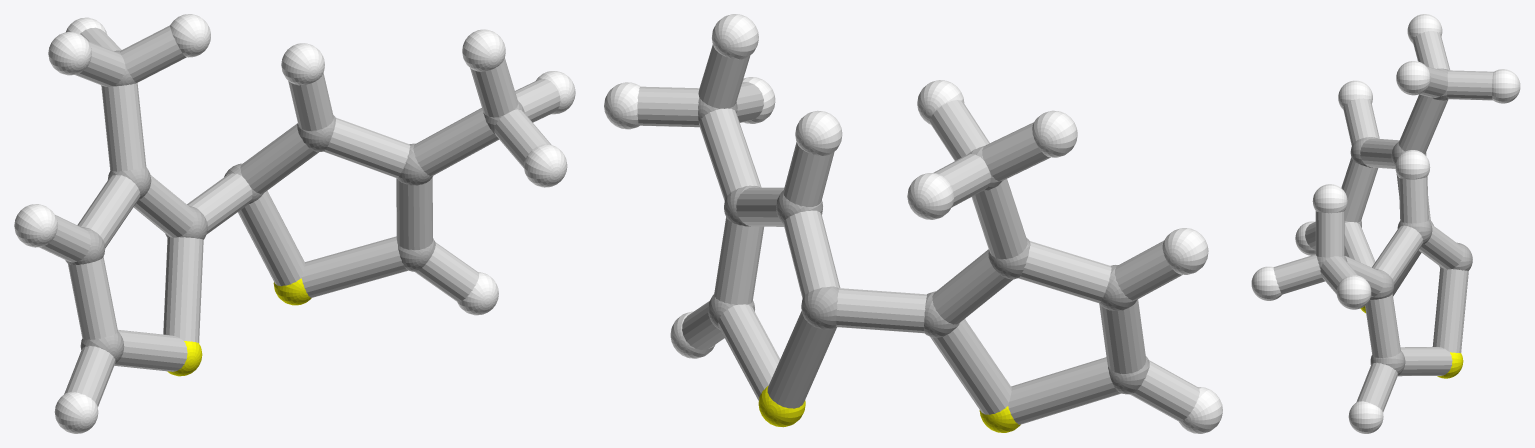
Rendered from Methylthiophene_Phi_60_Theta_210_Methylthiophene.glb.
3 renders of one model, left to right at view 1: azimuth 30°, elevation 25°; view 2: azimuth 150°, elevation 25°; view 3: azimuth 270°, elevation 25°, orthographic. The views are drawn at different scales.
Parts seen in each view (by area): view 1: grp7965, grp3621, grp1, grp7241; view 2: grp7965, grp3621, grp1, grp7241; view 3: grp7965, grp3621, grp1, grp7241.
Boxes of the visible parts, x1,y1,x2,y2 form: grp7965: [39, 25, 560, 407]; grp3621: [14, 14, 575, 433]; grp1: [65, 50, 524, 363]; grp7241: [167, 278, 311, 376]; grp7965: [637, 44, 1199, 424]; grp3621: [604, 14, 1222, 433]; grp1: [698, 98, 1149, 394]; grp7241: [758, 386, 1020, 432]; grp7965: [1273, 31, 1493, 412]; grp3621: [1251, 14, 1520, 433]; grp1: [1317, 68, 1472, 375]; grp7241: [1360, 306, 1463, 378].
Size of the model in its own units: 8.79 by 5.19 by 4.63.
